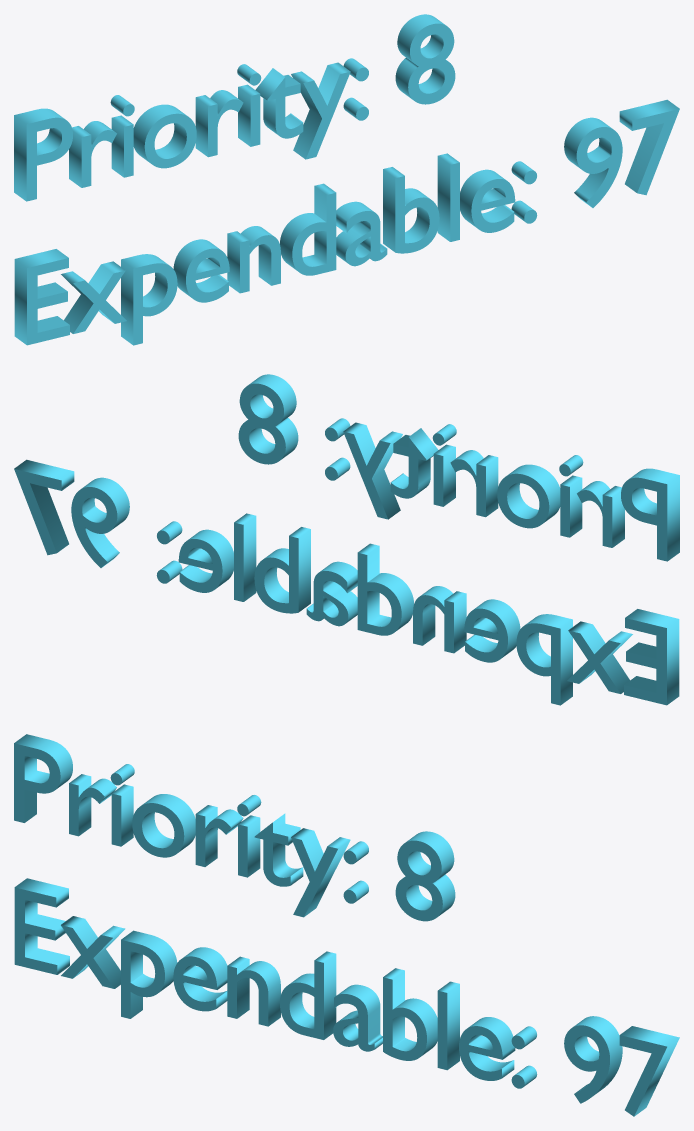
Rendered from console_test_002_result.fbx.
3 renders of one model, top to bottom at view 1: azimuth 30°, elevation 25°; view 2: azimuth 150°, elevation 25°; view 3: azimuth 330°, elevation 25°, orthographic.
Visible parts, largest first — view 1: Txt_Test_01.018, Txt_Test_01.017; view 2: Txt_Test_01.018, Txt_Test_01.017; view 3: Txt_Test_01.018, Txt_Test_01.017.
Part boxes in pixels (x1,y1,x2,y2): Txt_Test_01.018: (14,99,679,345); Txt_Test_01.017: (14,14,455,201); Txt_Test_01.018: (14,459,679,705); Txt_Test_01.017: (238,374,679,561); Txt_Test_01.018: (14,878,679,1116); Txt_Test_01.017: (14,734,455,921).
Size of the model in its own units: 0.8135 by 0.2955 by 0.027.
